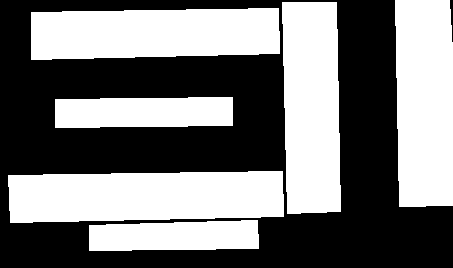parkingspot: (8, 171, 283, 222), (31, 8, 279, 59), (282, 2, 340, 213), (395, 0, 453, 206), (55, 97, 232, 127), (89, 220, 258, 250)
